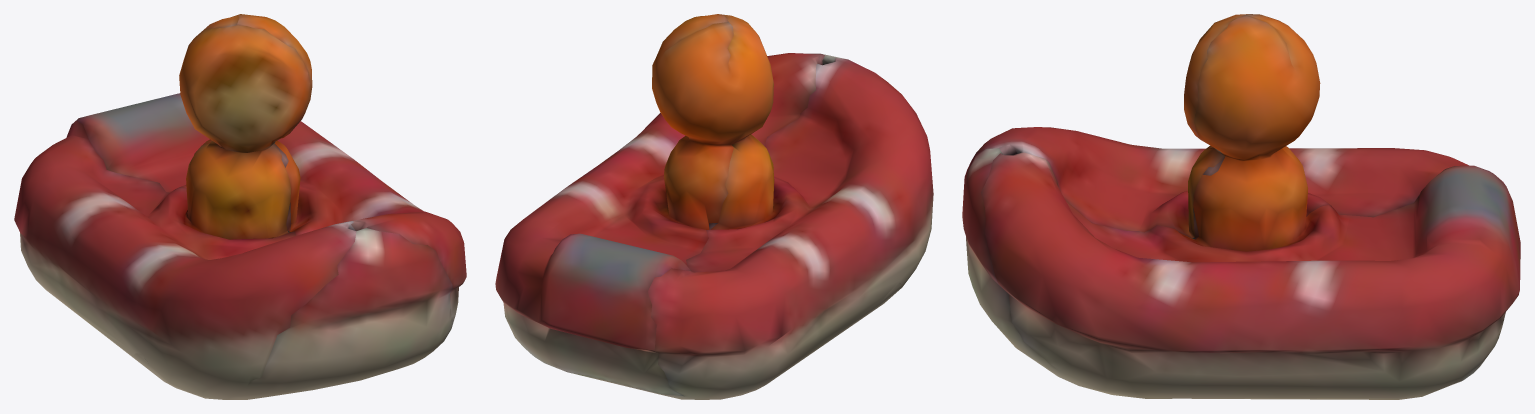
Rendered from COAST_GUARD_BOAT-medium.glb.
3 renders of one model, left to right at view 1: azimuth 30°, elevation 25°; view 2: azimuth 150°, elevation 25°; view 3: azimuth 270°, elevation 25°, orthographic. The views are drawn at different scales.
Visible parts, largest first — view 1: COAST_GUARD_BOAT; view 2: COAST_GUARD_BOAT; view 3: COAST_GUARD_BOAT.
Boxes of the visible parts, x1,y1,x2,y2 form: COAST_GUARD_BOAT: [14, 14, 466, 399]; COAST_GUARD_BOAT: [495, 14, 933, 399]; COAST_GUARD_BOAT: [962, 14, 1520, 399].
Bounding box in the file's own units: 0.0758 × 0.0756 × 0.1161.
1 material, 1 textured.
